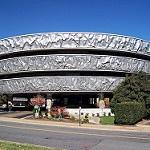building: (0, 30, 149, 120)
